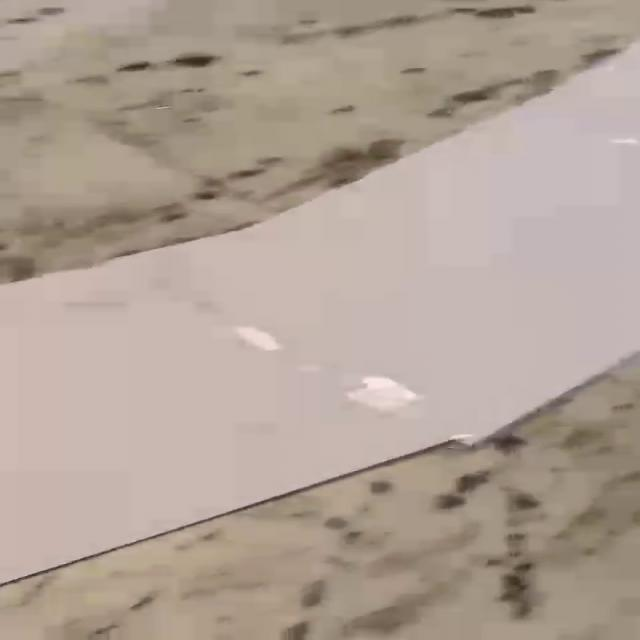road: (1, 45, 640, 582)
